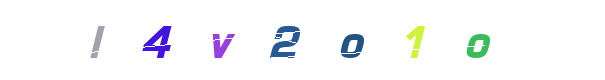1: (376, 0, 456, 80)
2: (263, 0, 343, 80)
4: (150, 0, 230, 80)
L: (119, 0, 199, 80)
O: (273, 0, 353, 80), (438, 0, 518, 80)
V: (174, 0, 254, 80)
